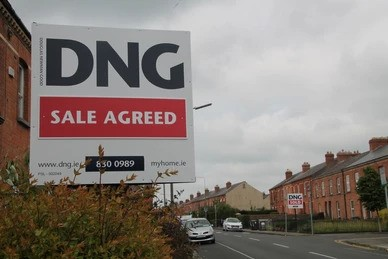property sign: (25, 15, 201, 190), (284, 190, 306, 211)
